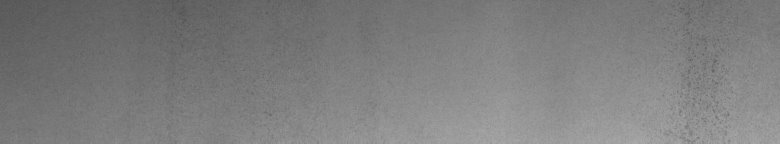ib: (679, 8, 728, 124)
